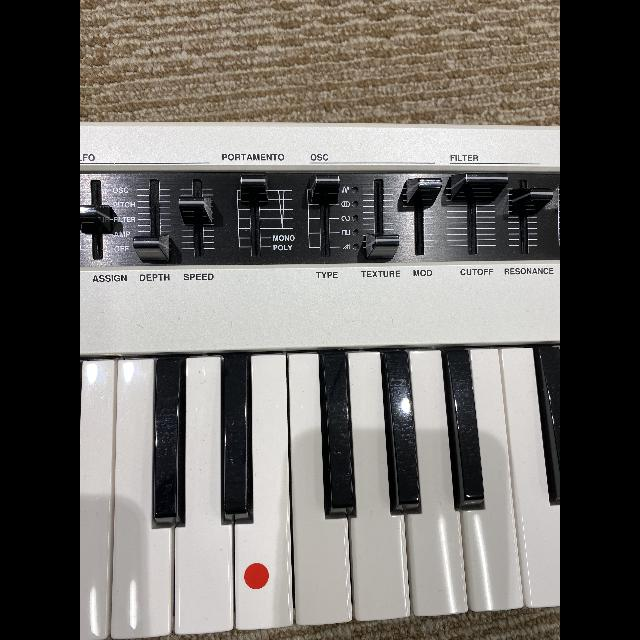Electronic-Keyboard: (80, 121, 560, 640)
